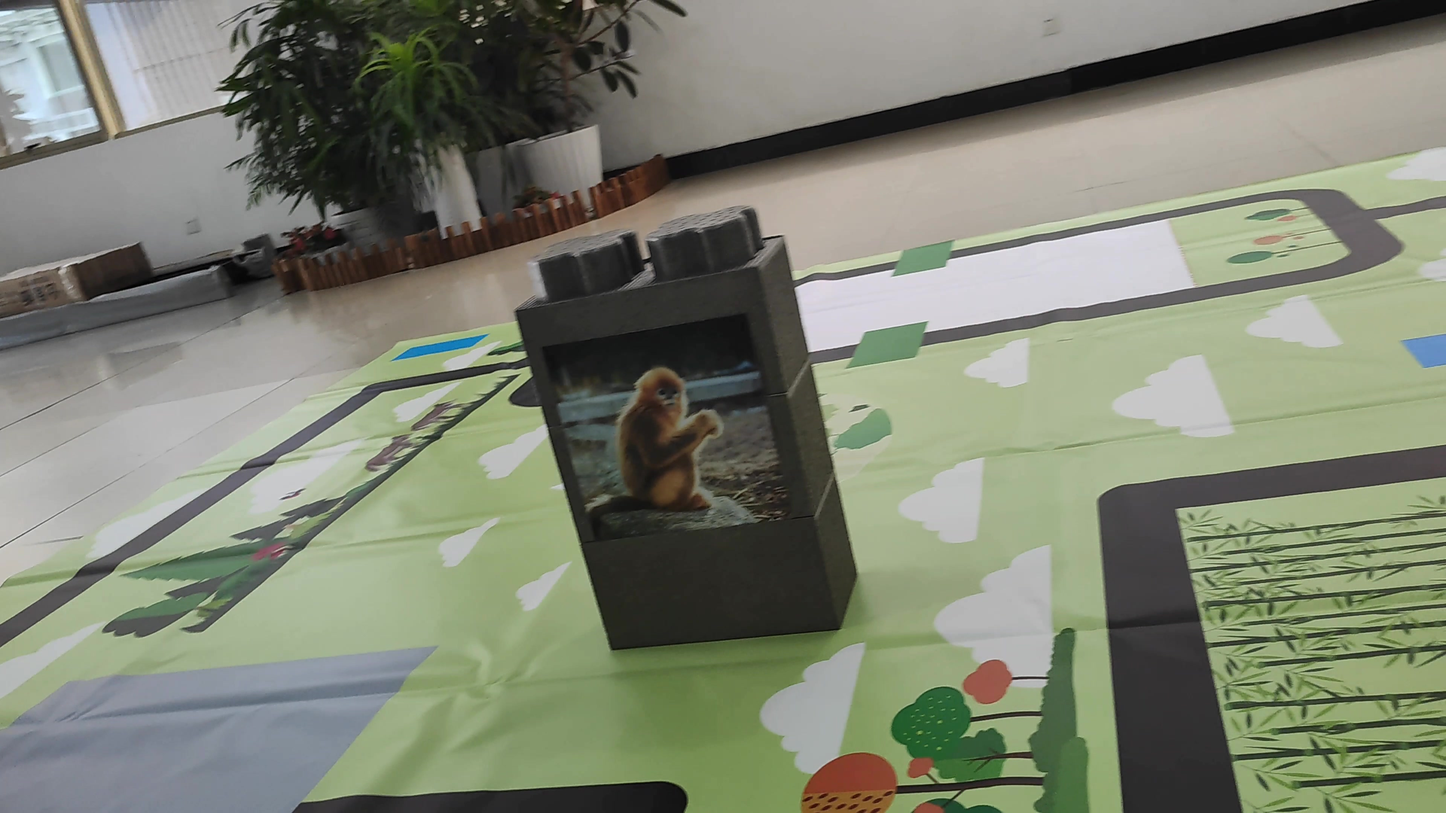monkey: (564, 344, 742, 522)
